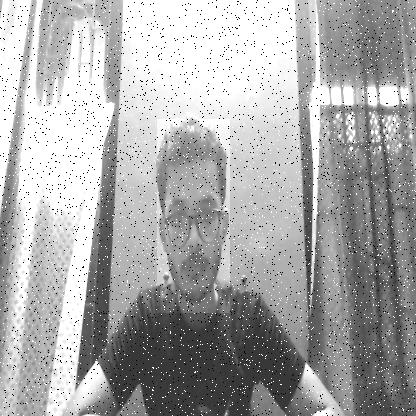Normal: (157, 119, 230, 314)
